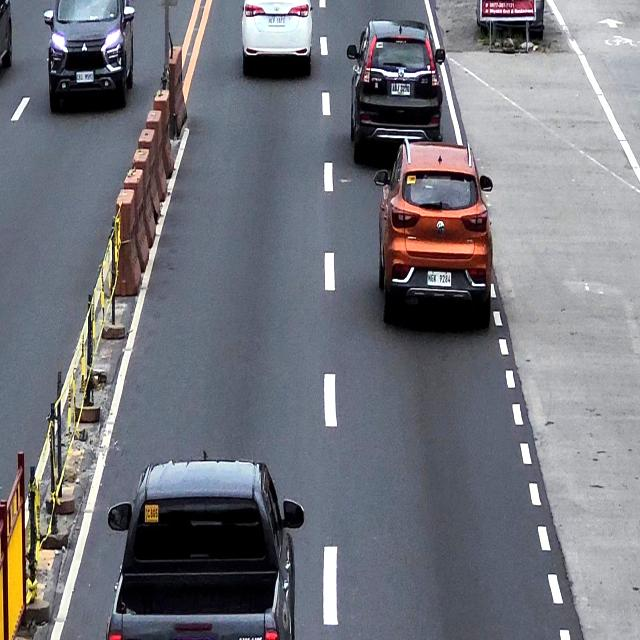Car: (108, 459, 306, 640), (373, 136, 494, 333), (346, 20, 446, 168), (242, 0, 314, 76)
License-Plate: (428, 271, 451, 287), (391, 82, 410, 96), (267, 16, 286, 27)
